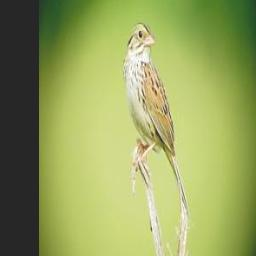Sparrow: (122, 18, 179, 195)
